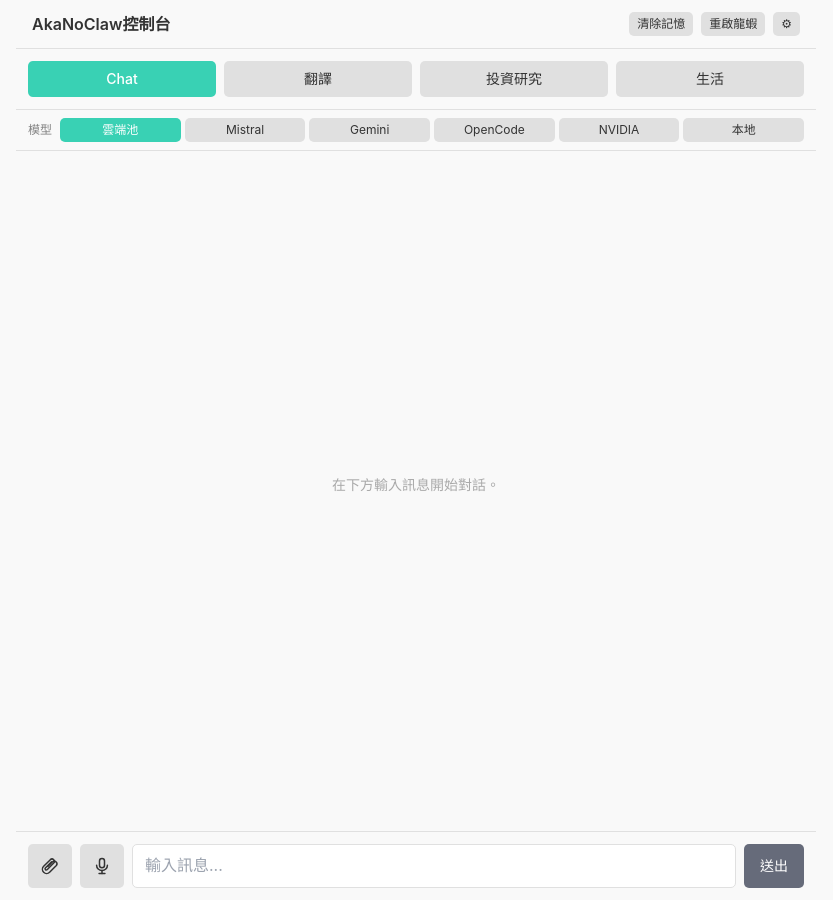
Test: App — voice direct fast path (#82 PR4) › does not render the feedback block without direct_action
Click the button named "開始語音輸入" at (102, 866), box x1=80 y1=844 x2=124 y2=888
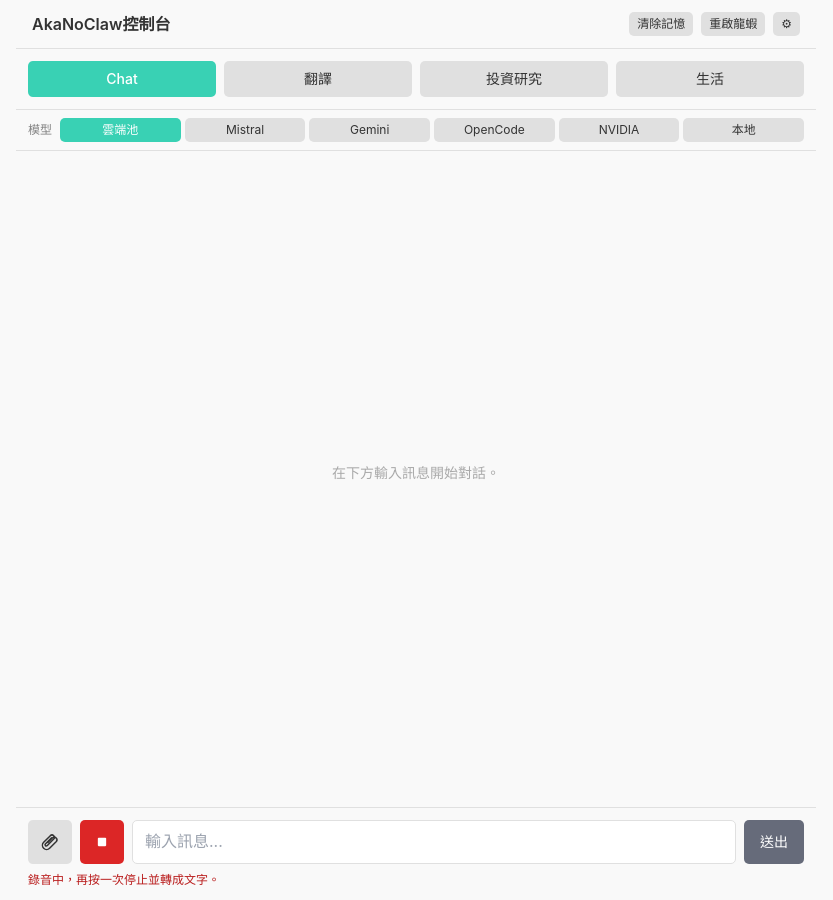
Click the button named "停止錄音" at (102, 842), box x1=80 y1=820 x2=124 y2=864
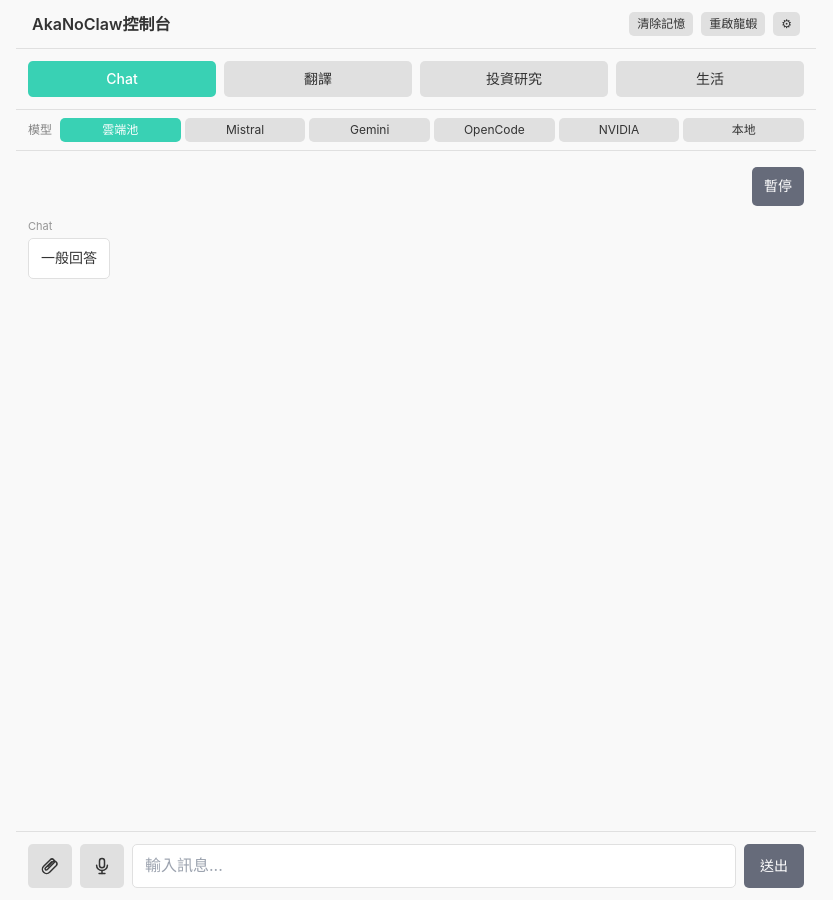
Expected: the text "一般回答" is shown, x1=28 y1=238 x2=110 y2=279
